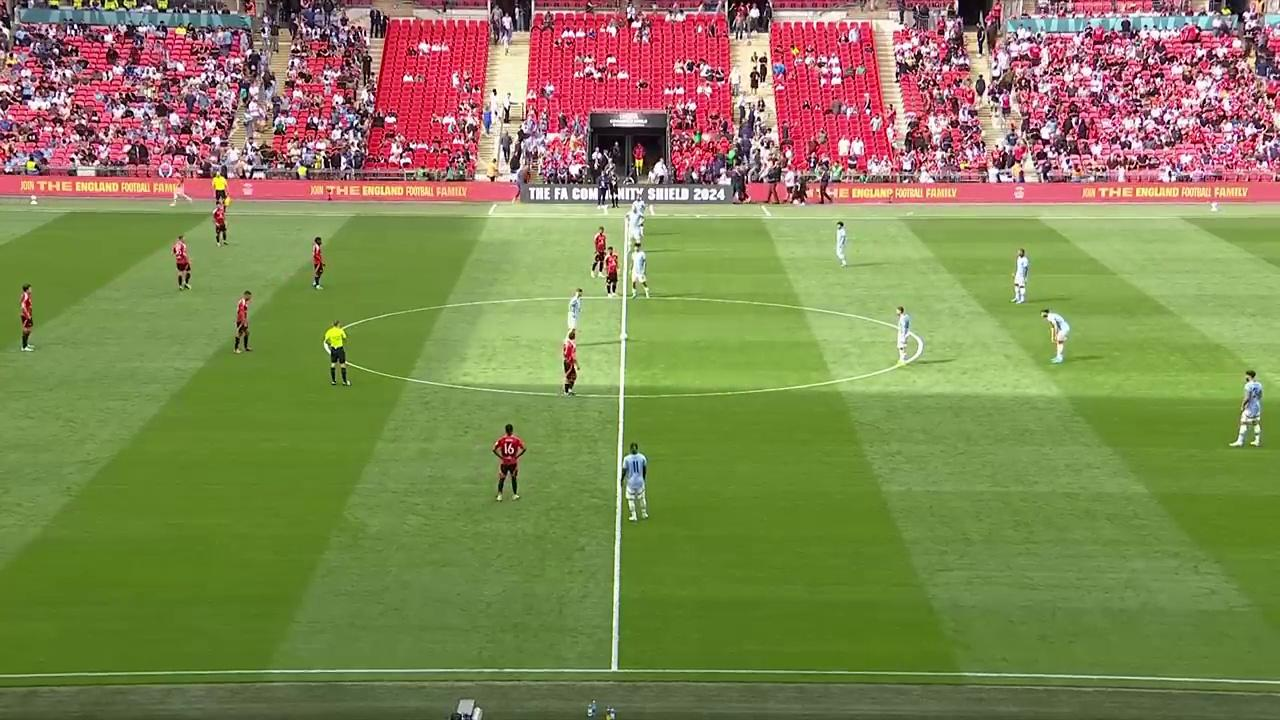ball: (619, 330, 631, 342), (1252, 435, 1260, 448)
player: (492, 423, 526, 500), (620, 441, 649, 522), (1229, 382, 1263, 448), (1234, 370, 1263, 444), (1042, 307, 1069, 363), (233, 289, 253, 353), (560, 332, 579, 397), (895, 305, 915, 363), (629, 246, 650, 298), (18, 284, 34, 351), (1011, 248, 1029, 304), (173, 237, 192, 290), (590, 227, 609, 276), (604, 248, 620, 296), (567, 288, 583, 336), (311, 237, 325, 289), (625, 205, 641, 249), (212, 202, 227, 247), (835, 221, 848, 266)
referee: (324, 321, 351, 387), (212, 170, 230, 207)
